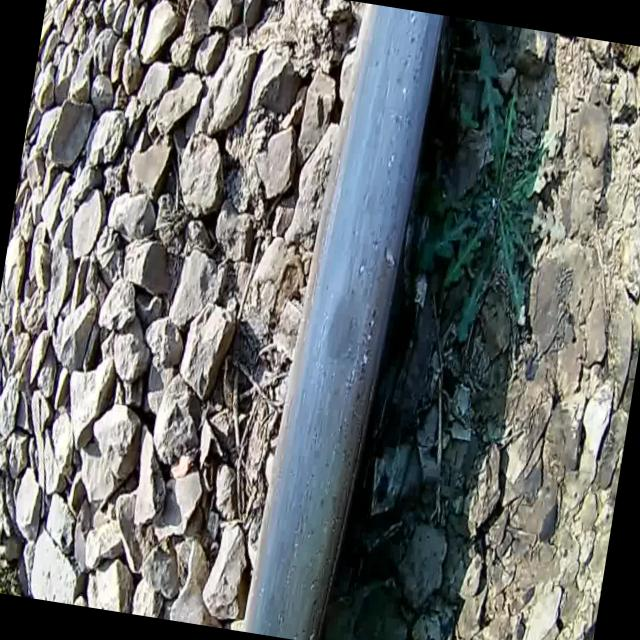Squats: (227, 0, 462, 640)
